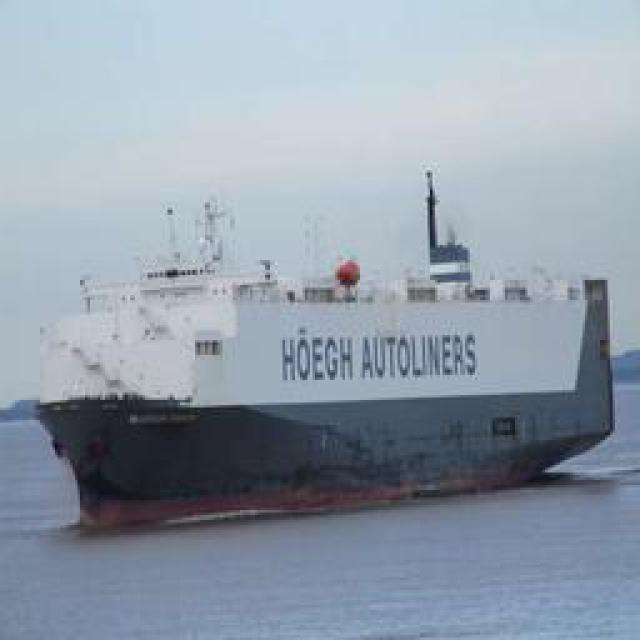Ship: (41, 156, 604, 514)
